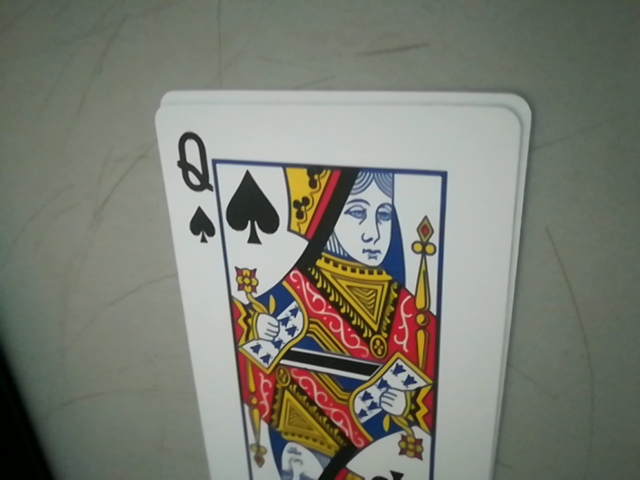ht q: (165, 117, 232, 252)
